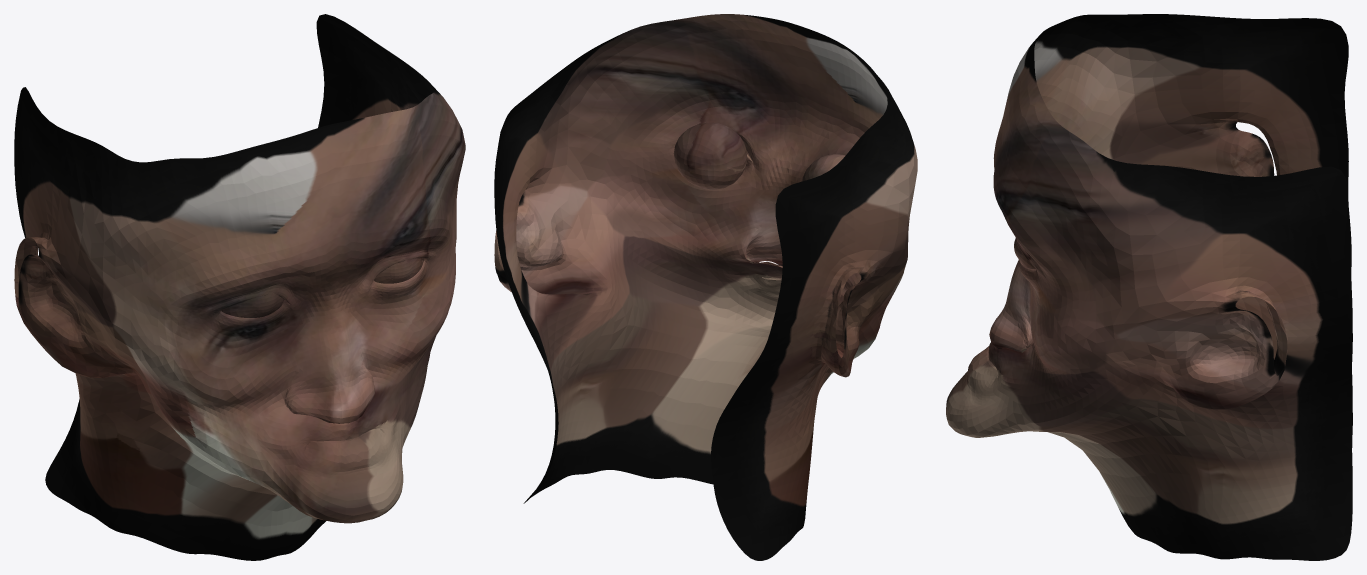
The model's file is baseline.glb.
The picture shows the model from 3 angles, left to right: view 1: azimuth 30°, elevation 25°; view 2: azimuth 150°, elevation 25°; view 3: azimuth 270°, elevation 25°; orthographic projection. The views are drawn at different scales.
Parts seen in each view (by area): view 1: geometry_0; view 2: geometry_0; view 3: geometry_0.
Part boxes in pixels (x1,y1,x2,y2): geometry_0: (14,14,465,560); geometry_0: (494,14,917,560); geometry_0: (946,14,1352,560).
Size of the model in its own units: 0.1712 by 0.2052 by 0.1628.
Materials: 1 (1 with a texture image).
